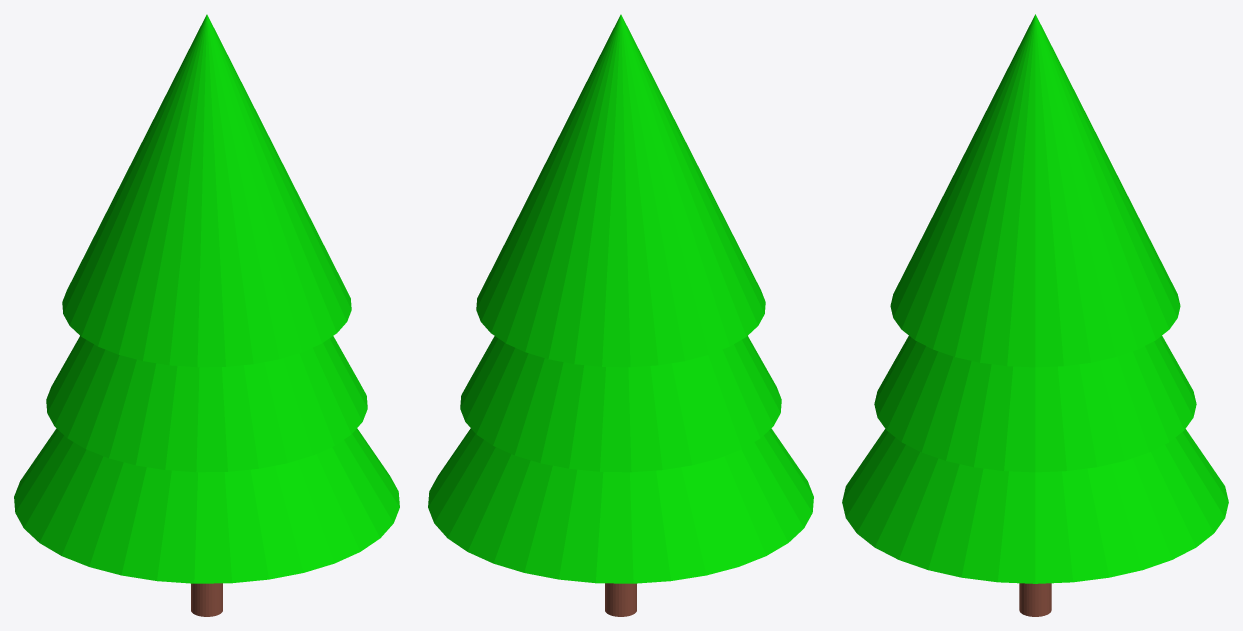
File: Tree.fbx
The picture shows the model from 3 angles, left to right: view 1: azimuth 30°, elevation 25°; view 2: azimuth 150°, elevation 25°; view 3: azimuth 270°, elevation 25°; orthographic projection.
Parts seen in each view (by area): view 1: Cone.002, Cone.001, Cone, Cylinder; view 2: Cone.002, Cone.001, Cone, Cylinder; view 3: Cone.002, Cone.001, Cone, Cylinder.
Boxes of the visible parts, left/top/right/bottom form: Cone.002: left=62, top=14, right=351, bottom=367; Cone.001: left=14, top=428, right=399, bottom=583; Cone: left=46, top=336, right=367, bottom=472; Cylinder: left=191, top=583, right=222, bottom=616; Cone.002: left=476, top=14, right=765, bottom=367; Cone.001: left=428, top=428, right=813, bottom=583; Cone: left=460, top=336, right=781, bottom=472; Cylinder: left=605, top=583, right=636, bottom=616; Cone.002: left=890, top=14, right=1180, bottom=367; Cone.001: left=842, top=429, right=1228, bottom=583; Cone: left=874, top=336, right=1196, bottom=472; Cylinder: left=1019, top=583, right=1051, bottom=616.
Size of the model in its own units: 1200 by 2041 by 1200.
